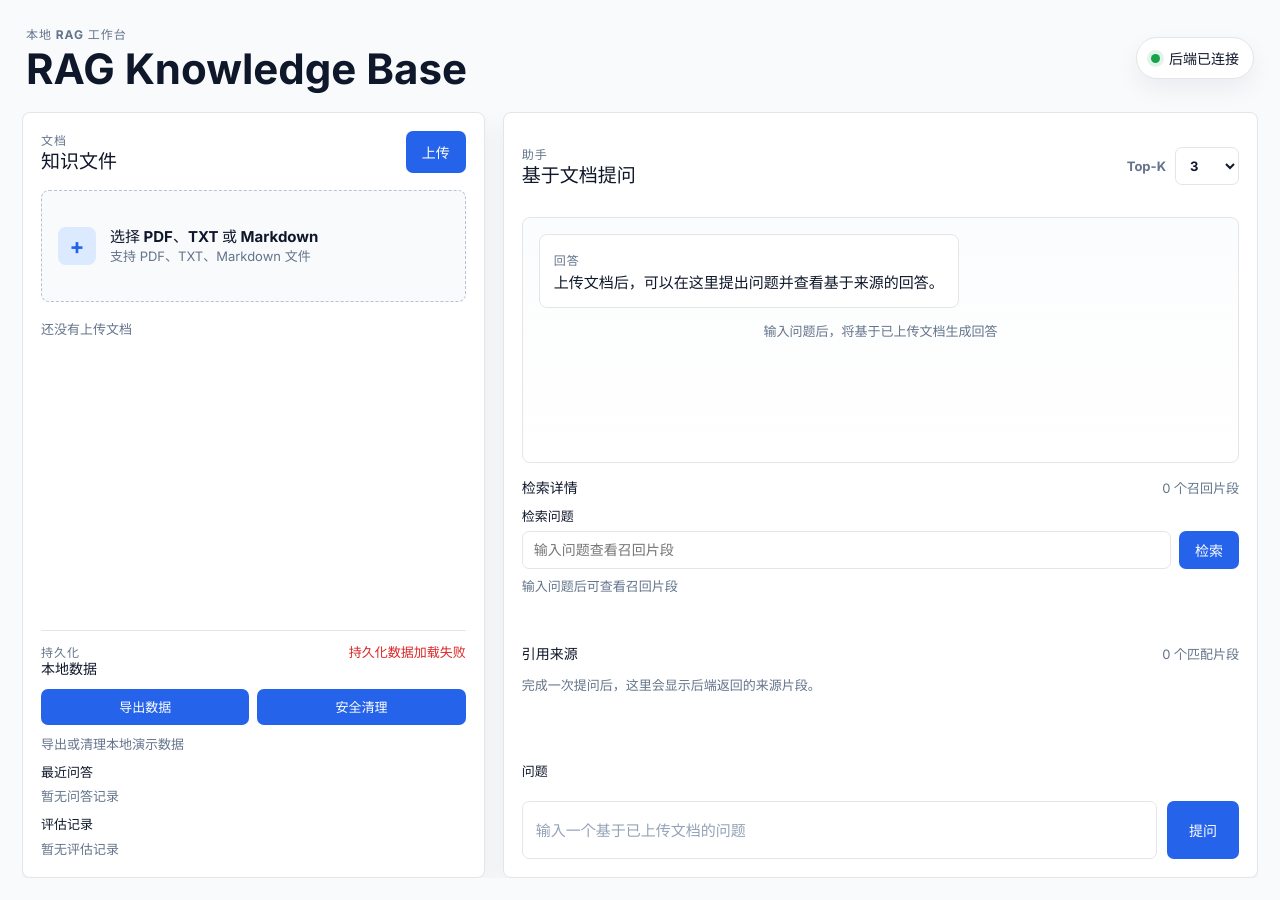
Test: App chat workflow › shows when retrieval debug query is not rewritten
Check: the text "后端已连接" is shown, box [1169,48,1239,68]
Type "RAG 如何工作？" into the field labelled "检索问题". click: (846, 550)
box: [522,531,1171,569]
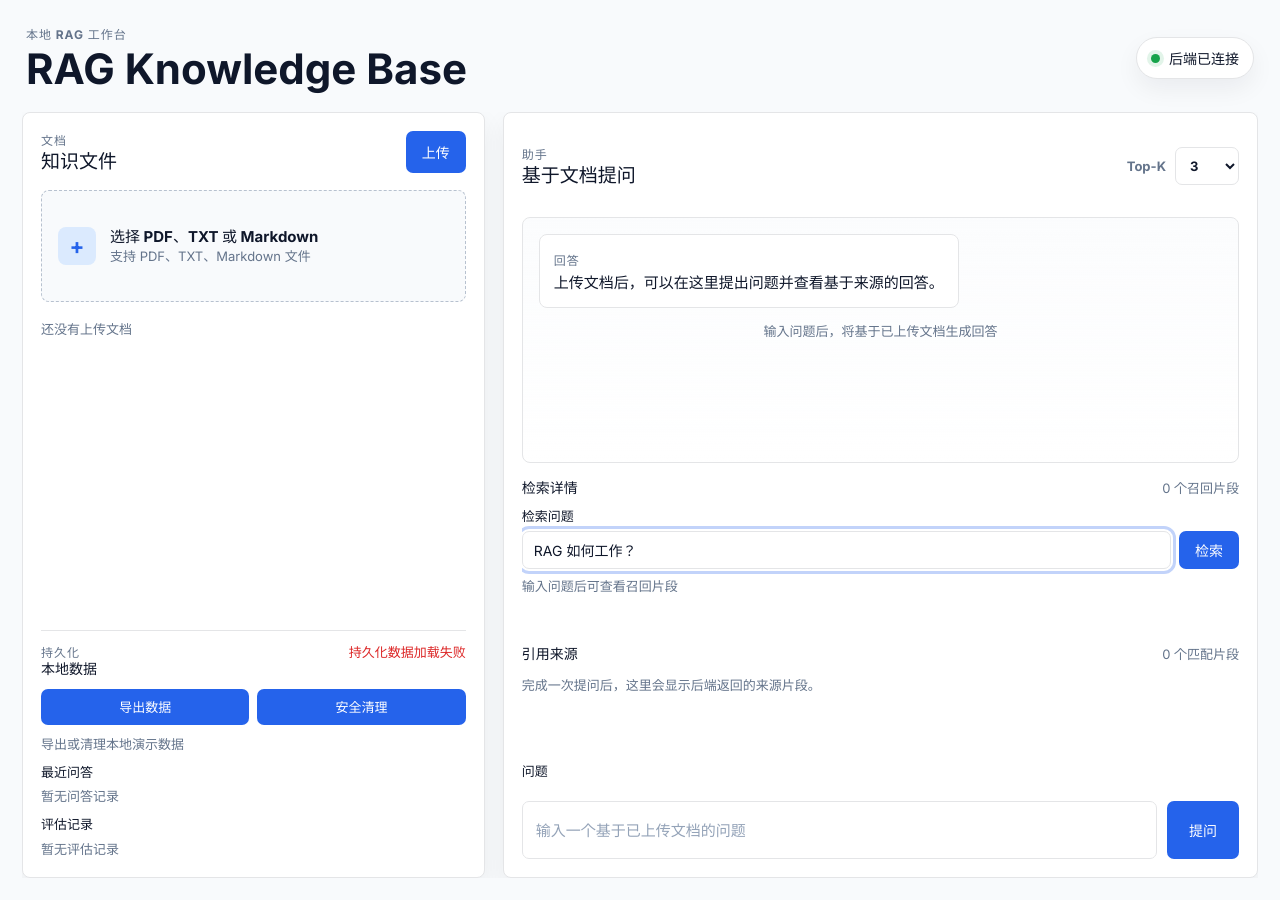
Click the button "检索". click: (1209, 550)
box: [1179,531,1239,569]
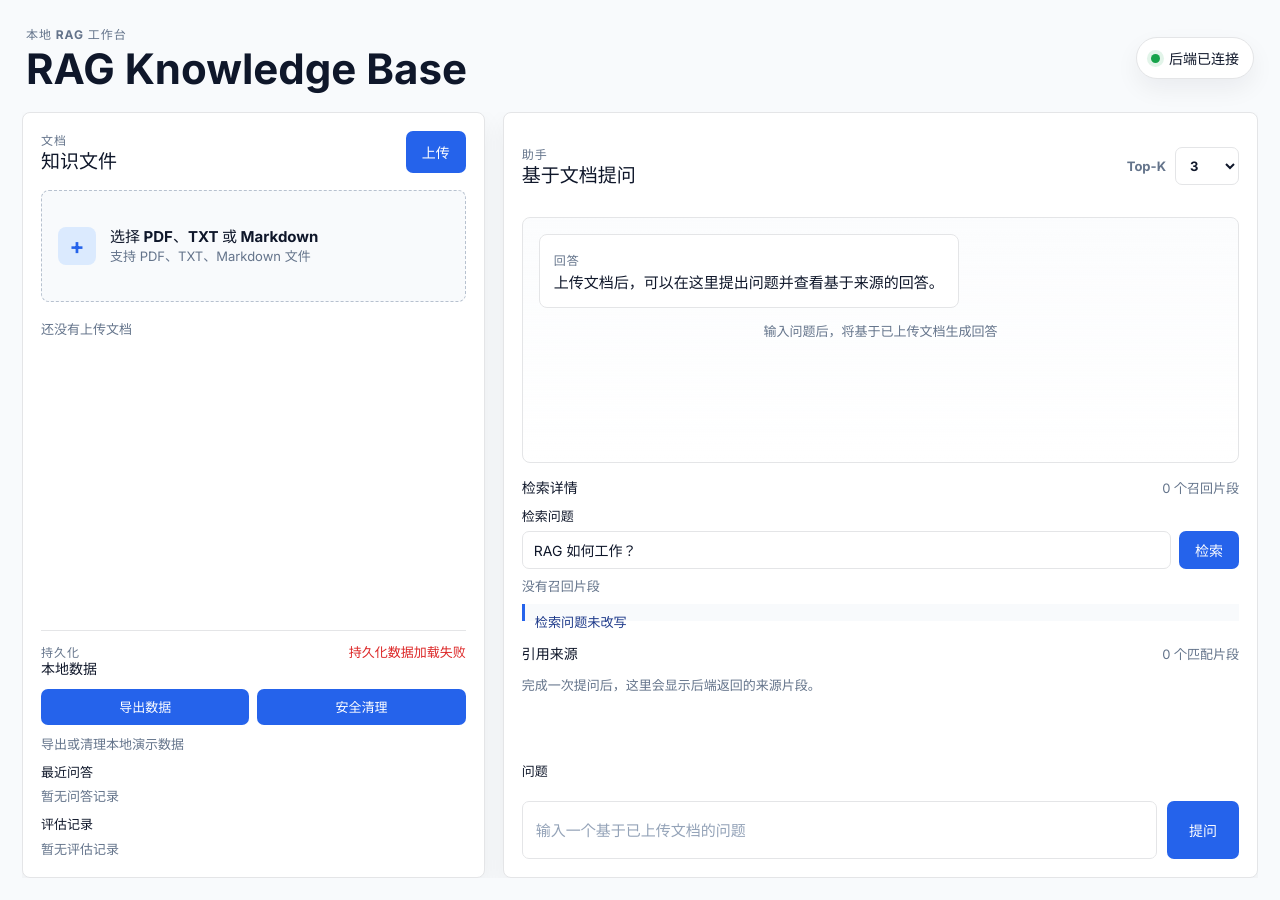
Check: the text "检索问题未改写" is shown, box [535,614,627,629]
